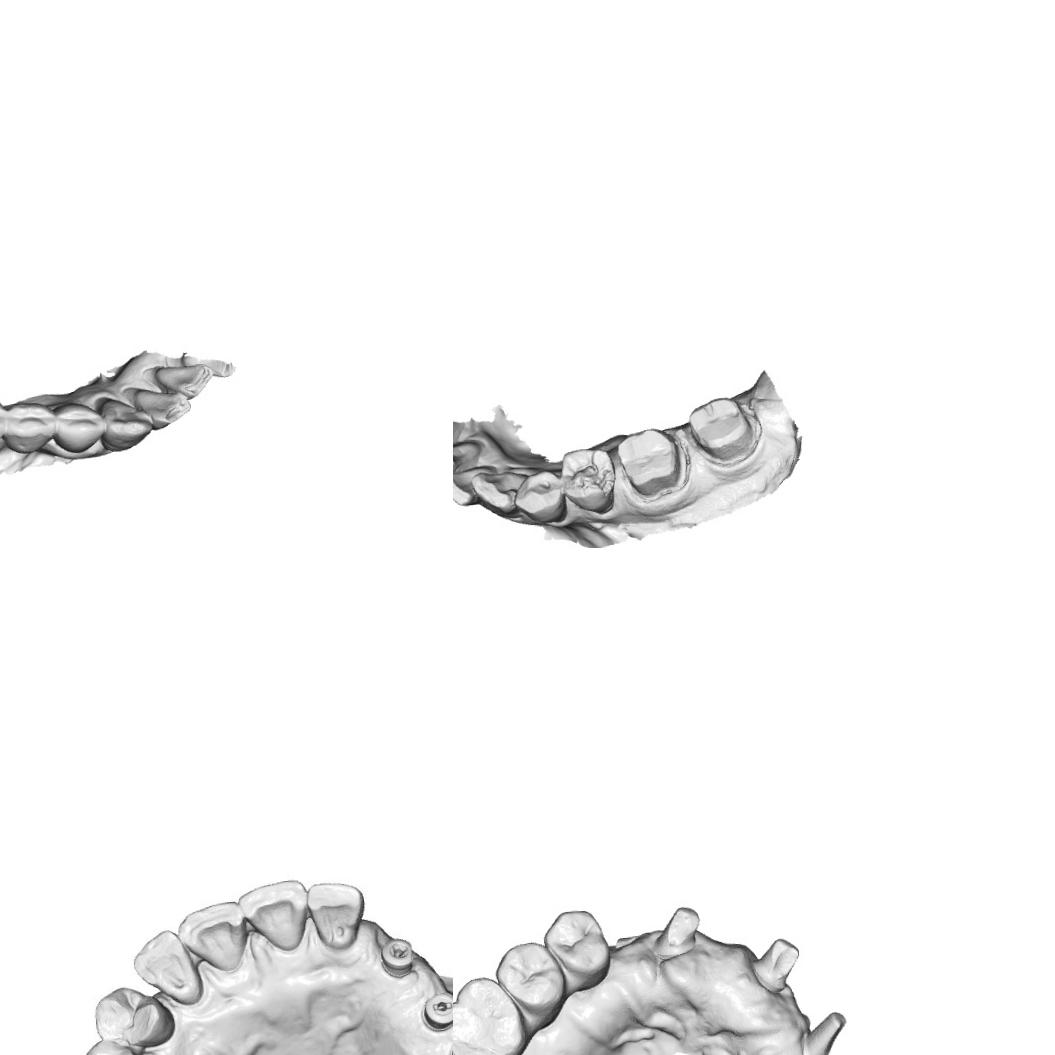abutment: (746, 932, 805, 996), (793, 1009, 853, 1055), (654, 900, 704, 955)
canine: (131, 928, 204, 1004), (96, 392, 154, 454), (469, 465, 532, 520)
crown: (684, 392, 762, 470), (614, 424, 692, 500)
implant_minus: (415, 988, 453, 1031)
implant_plus: (374, 936, 420, 975)
incisor: (176, 902, 247, 970), (236, 880, 307, 947), (307, 879, 366, 951), (126, 382, 193, 432), (150, 361, 215, 402), (453, 462, 500, 508), (453, 436, 487, 475)
molar: (453, 972, 530, 1055)
premolar: (492, 935, 568, 1019), (539, 902, 613, 984), (94, 986, 176, 1048), (556, 446, 619, 516), (510, 467, 568, 526), (1, 398, 56, 456), (51, 398, 106, 455), (76, 1041, 153, 1055)
